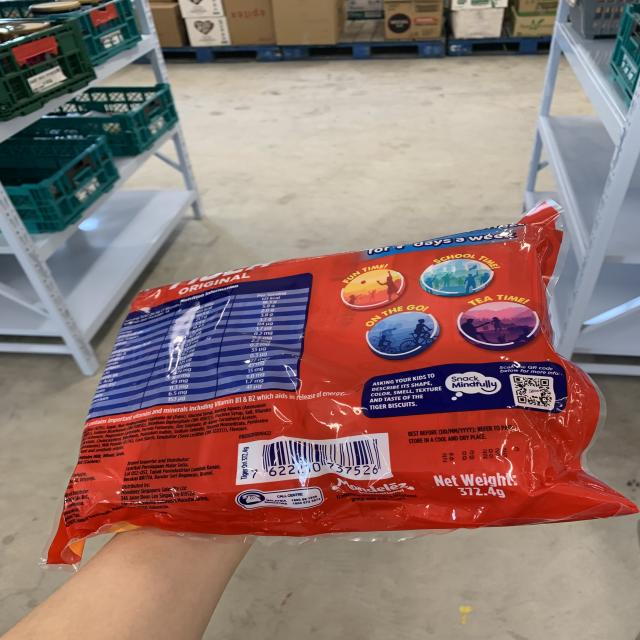object_name: (53, 253, 586, 538)
